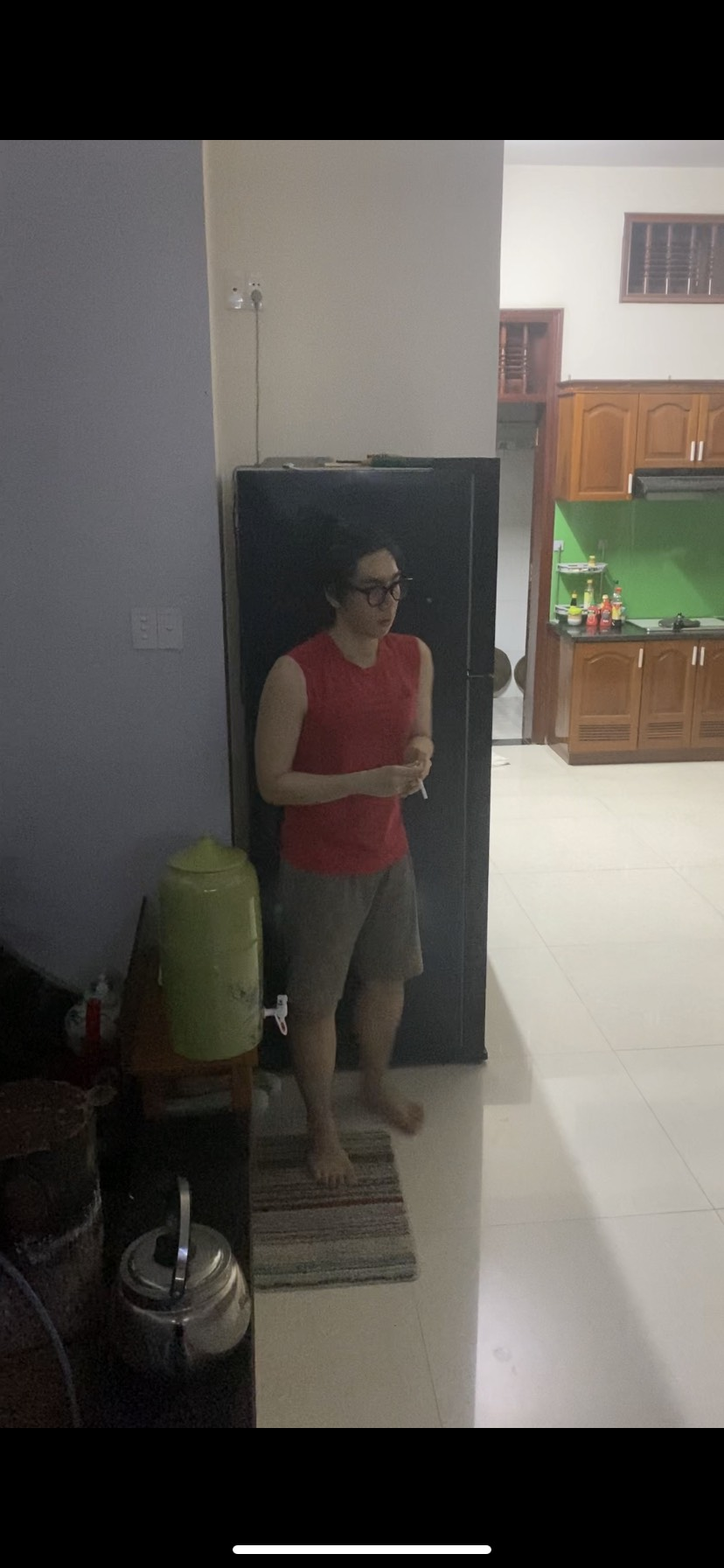cigarette: (418, 781, 430, 803)
person: (249, 518, 437, 1191)
